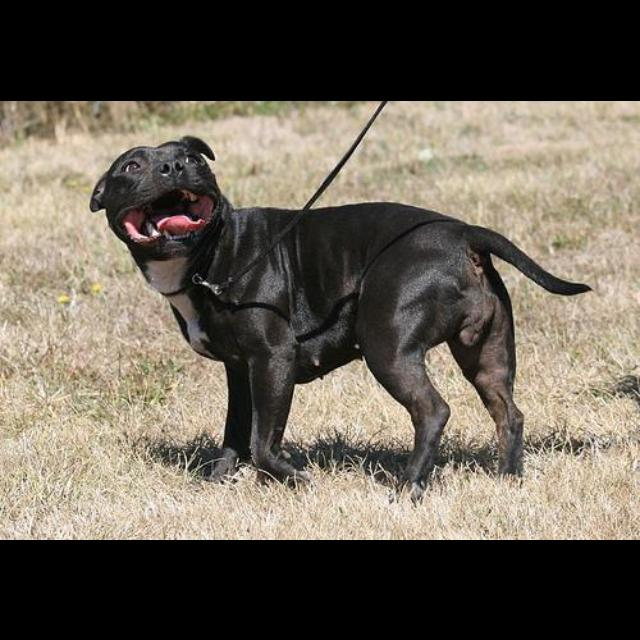staffford: (89, 134, 593, 507)
